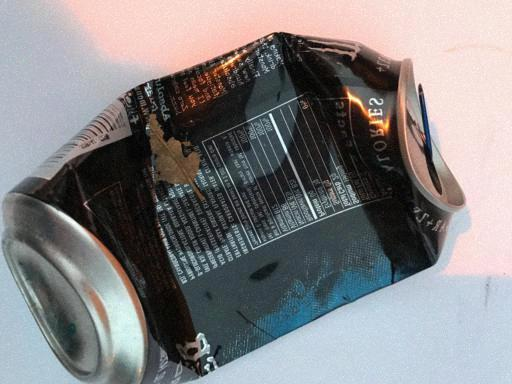metal: (0, 33, 474, 383)
